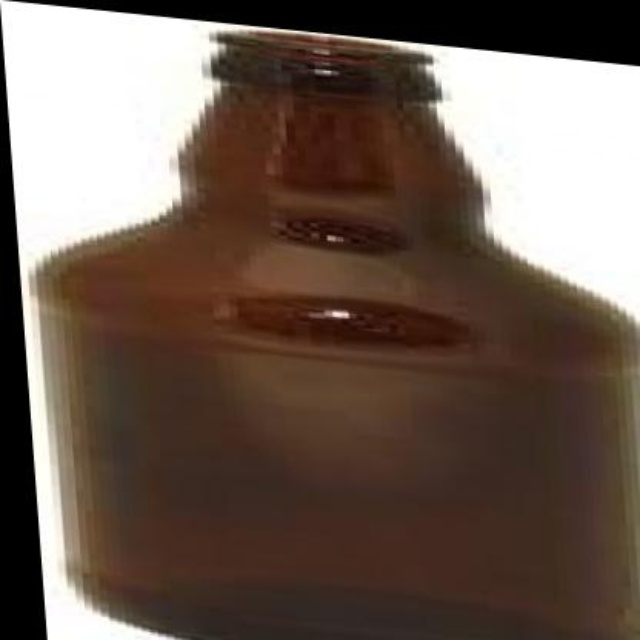trash: (34, 31, 638, 638)
